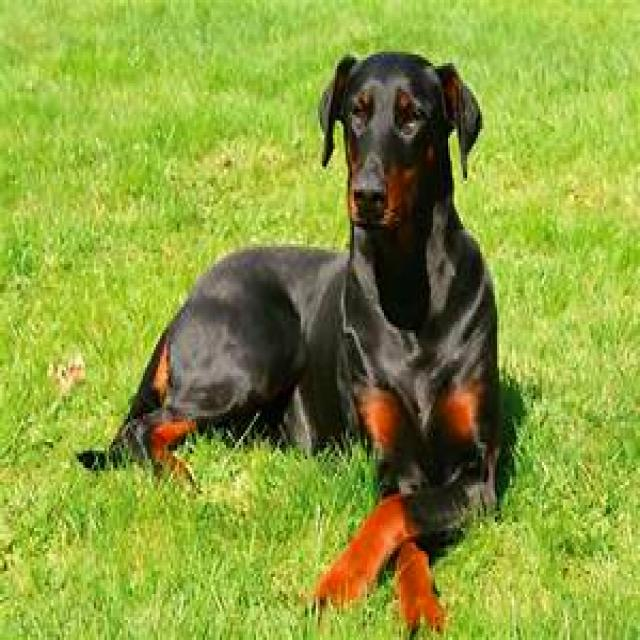KOPEK: (71, 49, 535, 613)
